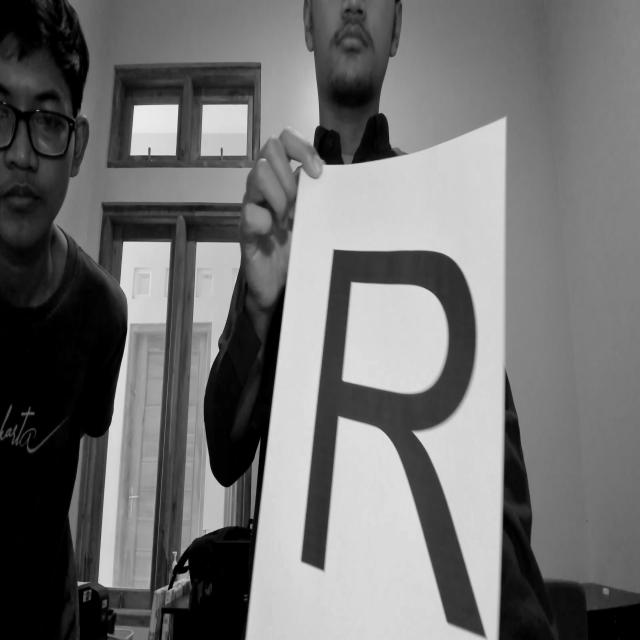r: (294, 225, 517, 640)
